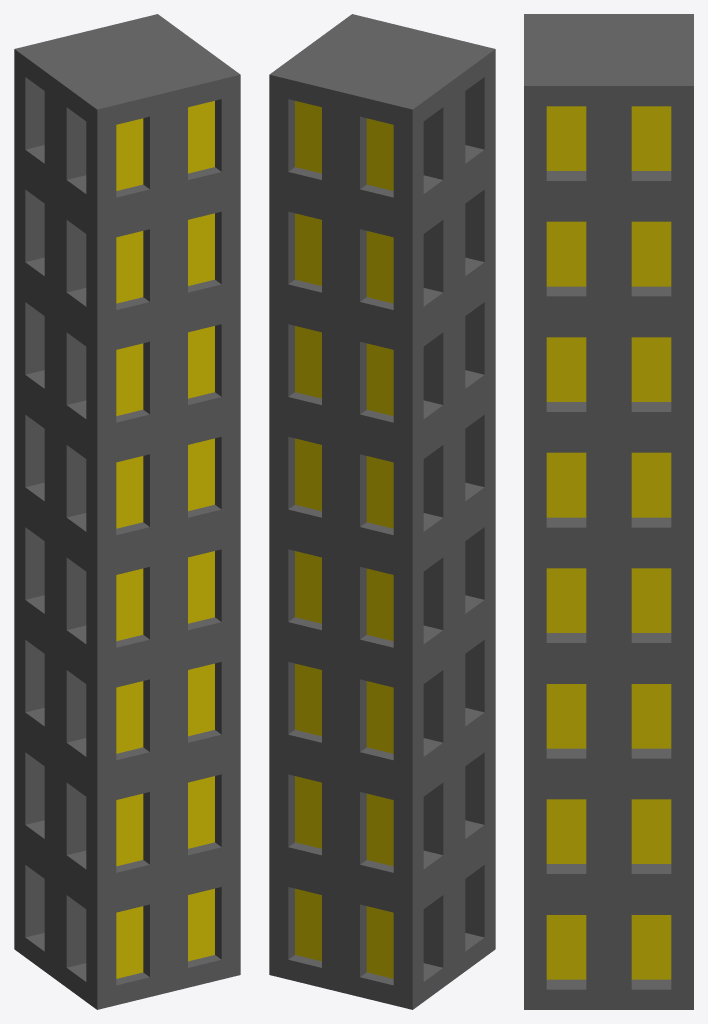
Rendered from miniskyscraper.fbx.
3 views of the same model, side by side, from view 1: azimuth 30°, elevation 25°; view 2: azimuth 150°, elevation 25°; view 3: azimuth 270°, elevation 25° (orthographic). The views are drawn at different scales.
Visible parts, largest first — view 1: Cube; view 2: Cube; view 3: Cube.
Part boxes in pixels (x1,y1,x2,y2): Cube: [14, 14, 240, 1009]; Cube: [269, 14, 495, 1009]; Cube: [524, 14, 693, 1009].
Size of the model in its own units: 200 by 1200 by 200.
